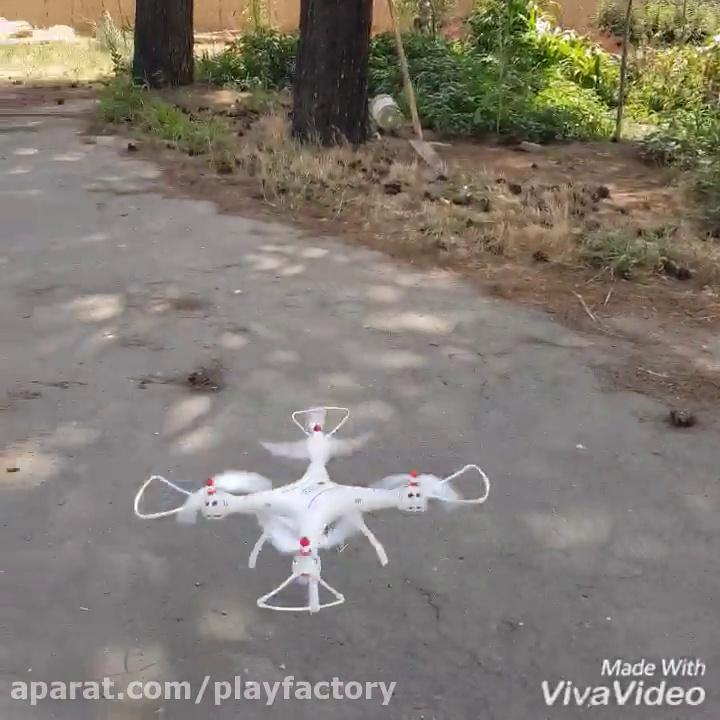drone: (130, 406, 490, 615)
